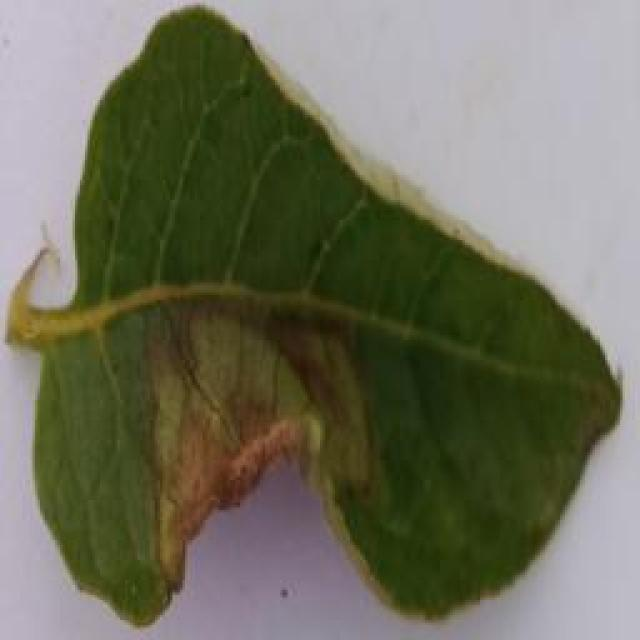Potato_Late_Blight: (8, 5, 610, 625)
